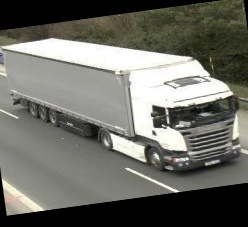truck: (5, 18, 245, 193)
